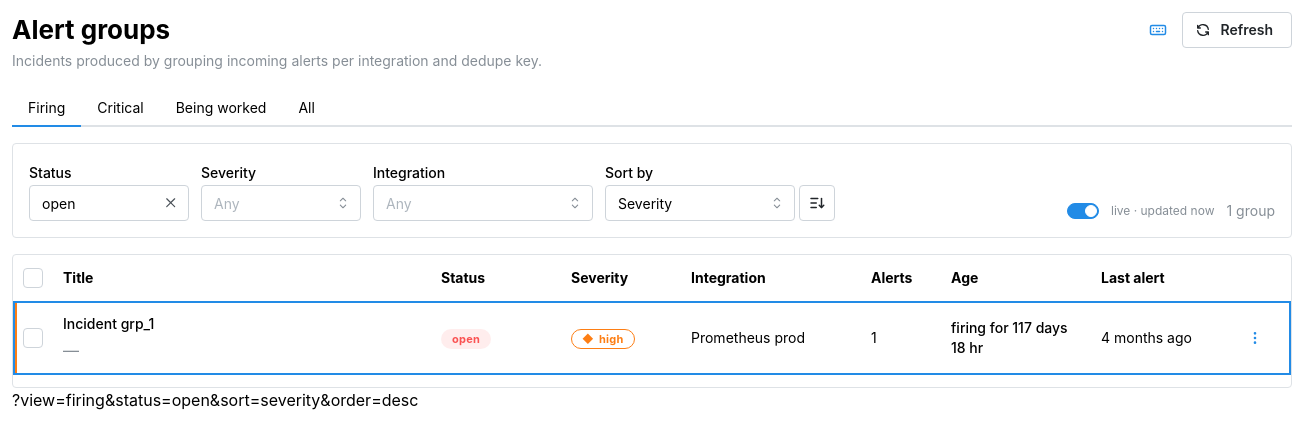
Test case: AlertGroupsPage › offers one option per severity level, not per spelling
The image size is (1304, 427).
Check: the link "Incident grp_1" is shown, box [63, 315, 154, 332]
Check: the text "high" is shown, box [599, 330, 624, 348]
What coordinates should you click on to do the following:
click the field labelled "Severity"
I would click on:
 (281, 203)
Its box is [201, 185, 361, 221].
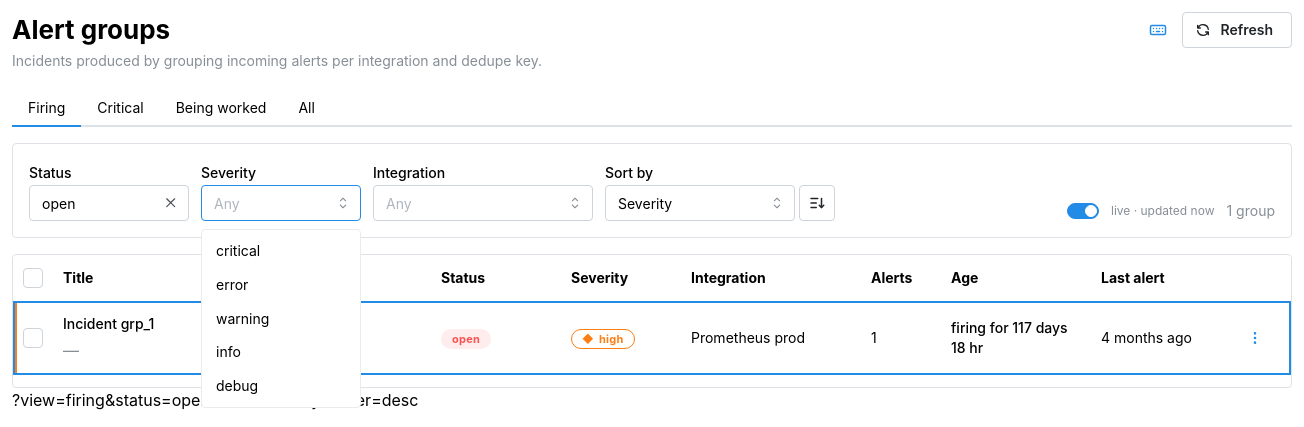
Check: the option "error" is shown, box [216, 276, 248, 293]
